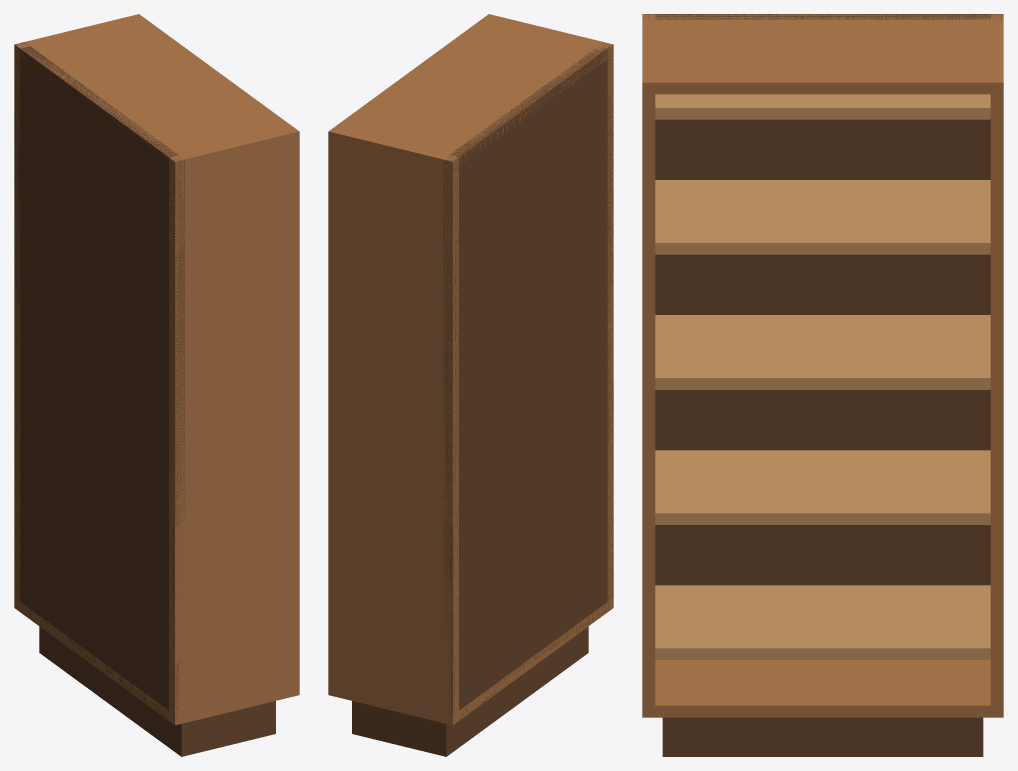
The model's file is kitchen-pantry-cabinet.gltf.
The picture shows the model from 3 angles, left to right: view 1: azimuth 30°, elevation 25°; view 2: azimuth 150°, elevation 25°; view 3: azimuth 270°, elevation 25°; orthographic projection. The views are drawn at different scales.
Visible parts, largest first — view 1: Open pantry back, Open pantry side (×2), Open pantry base and cap (×2), Open pantry recessed plinth; view 2: Open pantry back, Open pantry side (×2), Open pantry base and cap (×2), Open pantry recessed plinth; view 3: Pantry shelf (×5), Open pantry back, Open pantry base and cap (×2), Open pantry side (×2), Open pantry recessed plinth.
Part boxes in pixels (x1,y1,x2,y2): Open pantry back: (14, 42, 184, 724); Open pantry side (×2): (14, 14, 299, 724); Open pantry base and cap (×2): (14, 14, 299, 725); Open pantry recessed plinth: (39, 626, 275, 756); Open pantry back: (443, 44, 613, 720); Open pantry side (×2): (328, 14, 613, 724); Open pantry base and cap (×2): (328, 14, 613, 725); Open pantry recessed plinth: (352, 626, 588, 756); Pantry shelf (×5): (655, 94, 990, 659); Open pantry back: (643, 14, 1003, 585); Open pantry base and cap (×2): (642, 14, 1003, 717); Open pantry side (×2): (642, 14, 1003, 717); Open pantry recessed plinth: (662, 717, 983, 756).
Bounding box in the file's own units: 0.435 × 2.02 × 0.97.
